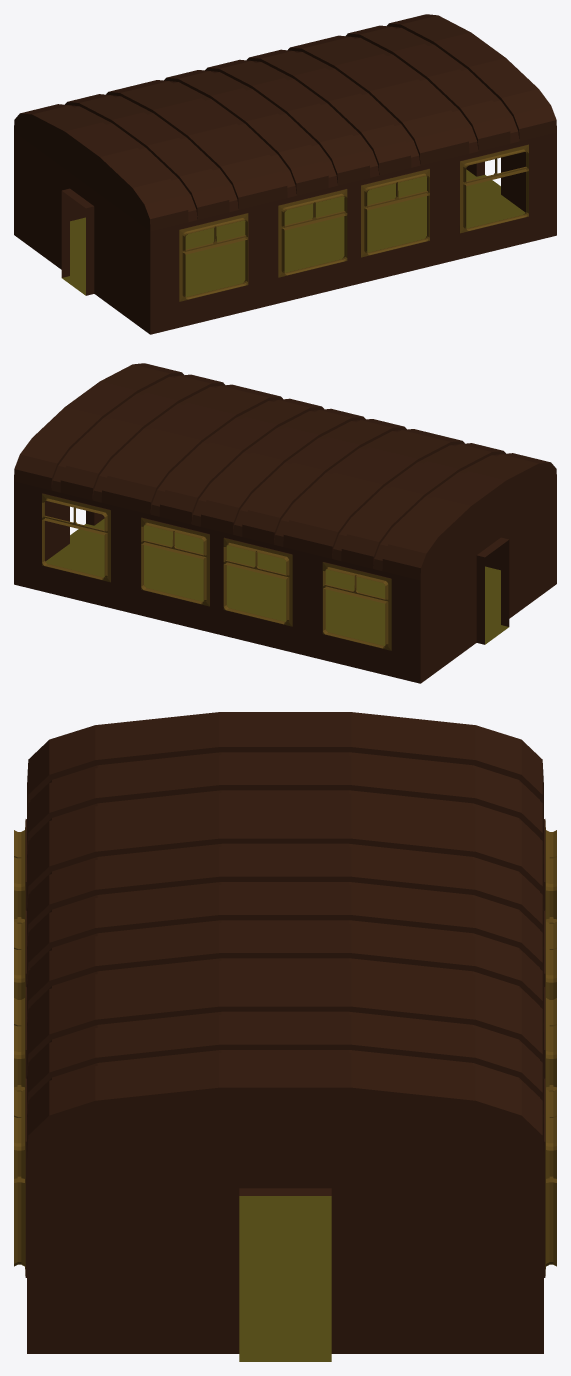
Rendered from ShortCarriage.fbx.
The picture shows the model from 3 angles, top to bottom: view 1: azimuth 30°, elevation 25°; view 2: azimuth 150°, elevation 25°; view 3: azimuth 270°, elevation 25°; orthographic projection. The views are drawn at different scales.
Visible parts, largest first — view 1: ShortCarriage; view 2: ShortCarriage; view 3: ShortCarriage.
Part boxes in pixels (x1,y1,x2,y2): ShortCarriage: [14, 14, 556, 334]; ShortCarriage: [14, 363, 556, 683]; ShortCarriage: [14, 712, 556, 1361].
Size of what is drawn, in the model's own units: 1422 by 451 by 834.
